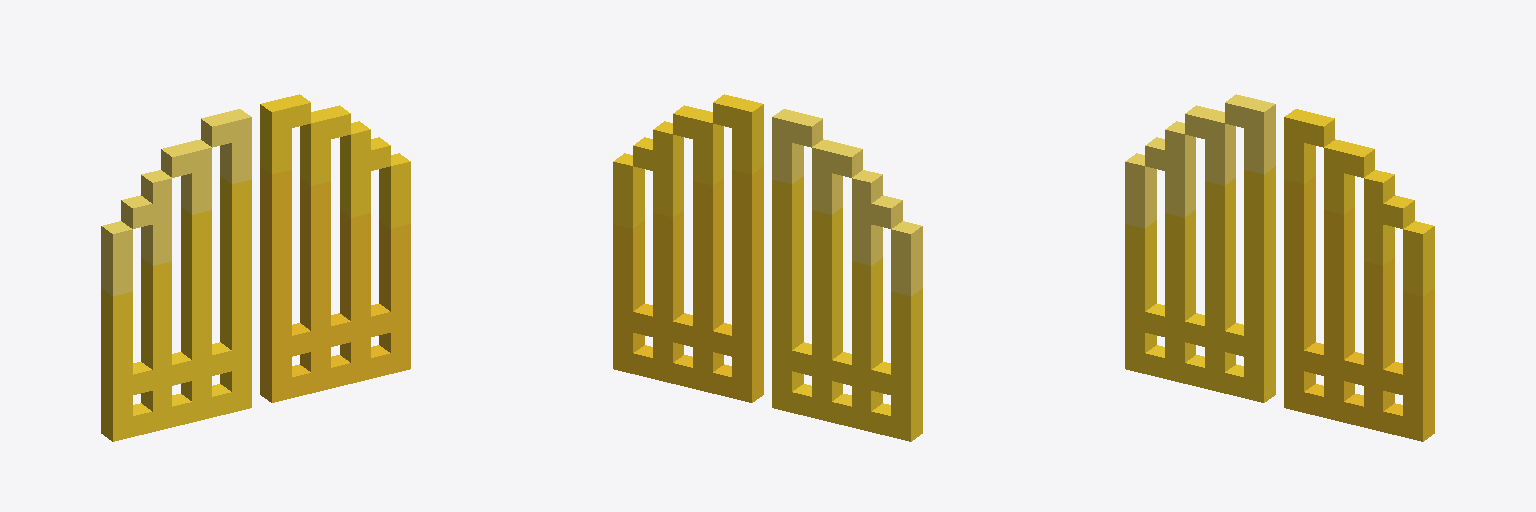
3 views of the same model, side by side, from view 1: azimuth 30°, elevation 25°; view 2: azimuth 150°, elevation 25°; view 3: azimuth 330°, elevation 25° (orthographic).
Parts seen in each view (by area): view 1: object 1; view 2: object 1; view 3: object 1.
Part boxes in pixels (x1,y1,x2,y2): object 1: (101,94,410,441); object 1: (613,94,922,441); object 1: (1125,94,1434,441).
Size of the model in its own units: 1.5 by 1.4 by 0.1.
1 materials, 1 textured.